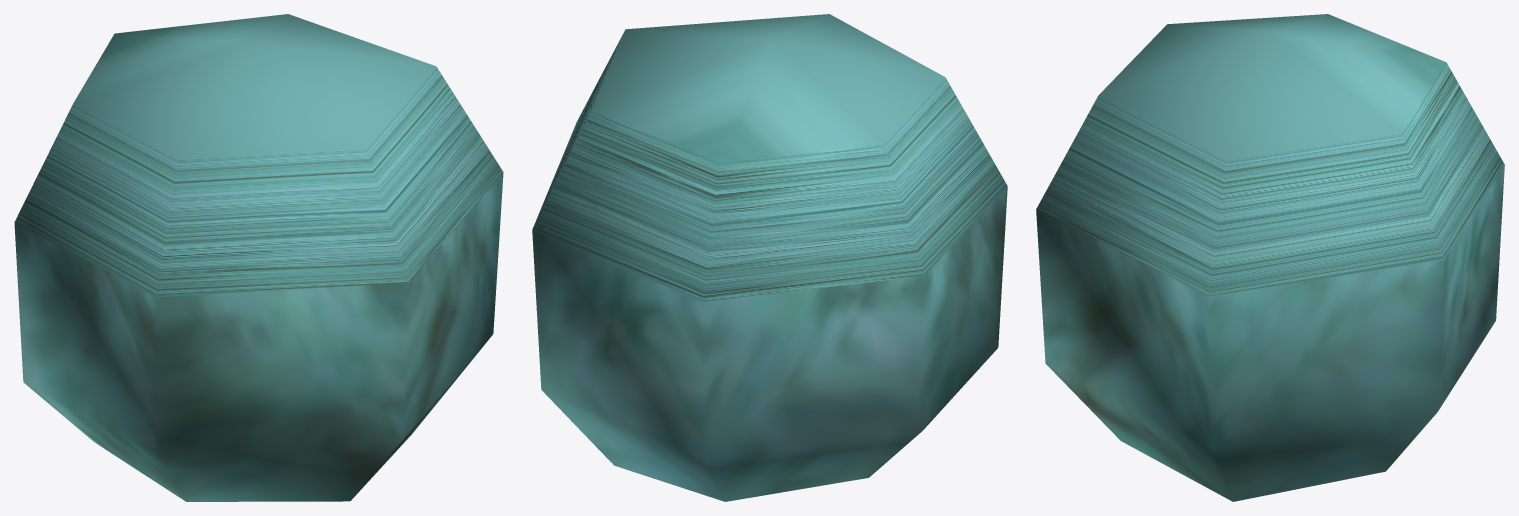
Rendered from EKH_GROTTO_PS_GR_ROCK1102930.fbx.
3 renders of one model, left to right at view 1: azimuth 30°, elevation 25°; view 2: azimuth 150°, elevation 25°; view 3: azimuth 270°, elevation 25°, orthographic. The views are drawn at different scales.
Parts seen in each view (by area): view 1: EKH_GROTTO_PS_GR_ROCK1102930; view 2: EKH_GROTTO_PS_GR_ROCK1102930; view 3: EKH_GROTTO_PS_GR_ROCK1102930.
Part boxes in pixels (bbox=[...]): EKH_GROTTO_PS_GR_ROCK1102930: bbox=[14, 14, 503, 501]; EKH_GROTTO_PS_GR_ROCK1102930: bbox=[532, 14, 1007, 501]; EKH_GROTTO_PS_GR_ROCK1102930: bbox=[1036, 14, 1504, 501].
Bounding box in the file's own units: 12000 × 11329 × 12090.
1 material, 1 textured.
